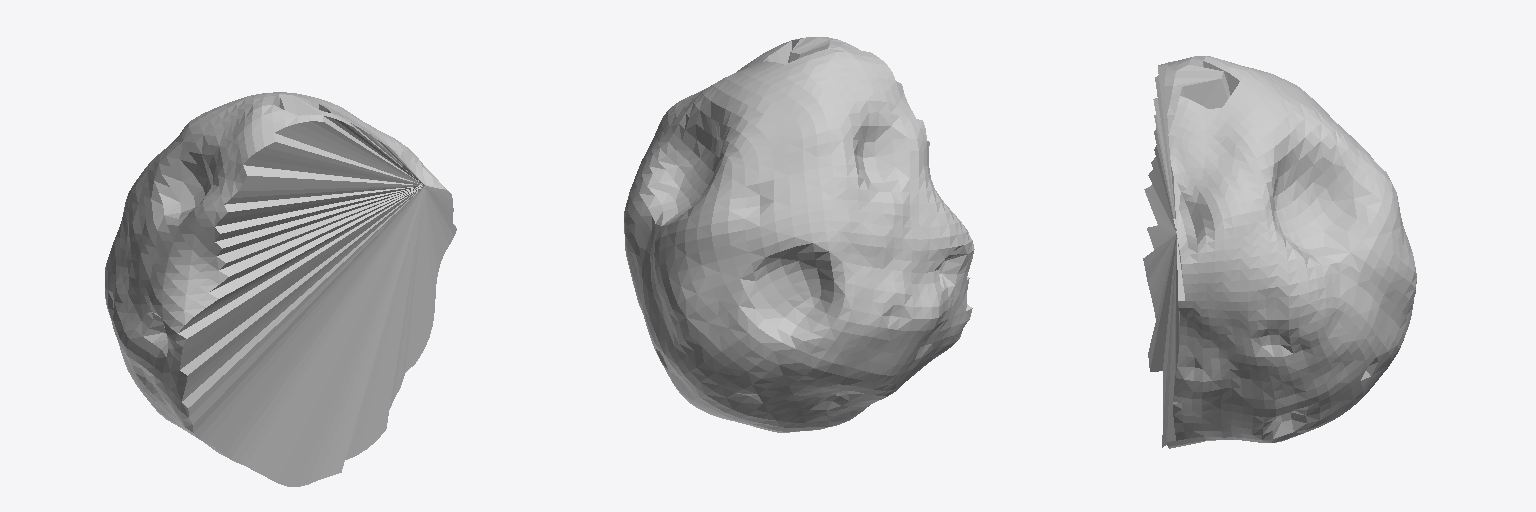
Rendered from AsteroidHalf2.obj.
3 views of the same model, side by side, from view 1: azimuth 30°, elevation 25°; view 2: azimuth 150°, elevation 25°; view 3: azimuth 270°, elevation 25° (orthographic).
Parts seen in each view (by area): view 1: asteroid.001; view 2: asteroid.001; view 3: asteroid.001.
Boxes of the visible parts, <box> form: asteroid.001: <box>105,92,456,486</box>; asteroid.001: <box>624,37,974,432</box>; asteroid.001: <box>1143,56,1416,448</box>.
Size of the model in its own units: 1.06 by 1.25 by 0.8393.